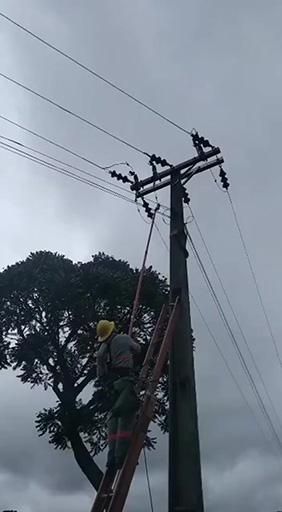Vara_Manobra: (128, 223, 155, 338)
